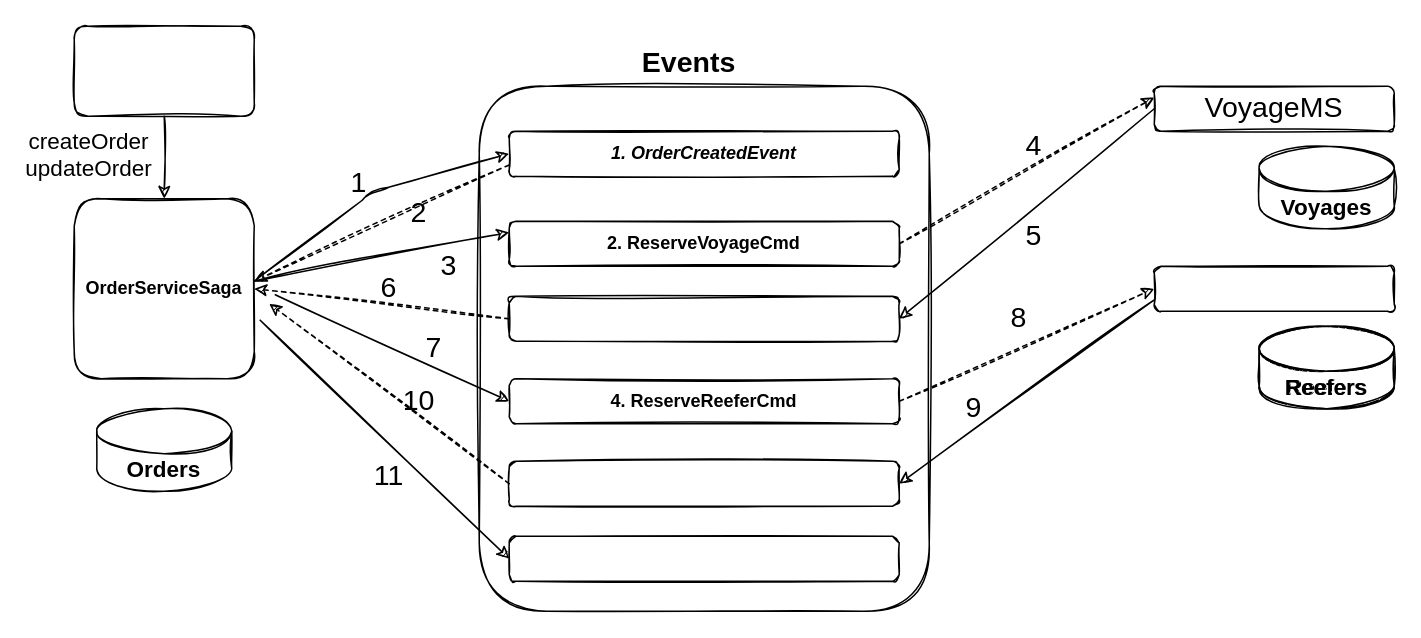
Some shapes in this 1421 by 638 pixel diagram are drawn without their labels. The shapes that lost their labels are listed below. From the top down, each one's centre as x and y in pixels, then its label:
At point 163,70: "User Interface".
At point 1273,288: "ContainerMS".
At point 703,318: "3. VoyageAllocatedEven t".
At point 703,483: "5. ReeferReservedEvent".
At point 703,558: "6. OrderAssignedEvent".
